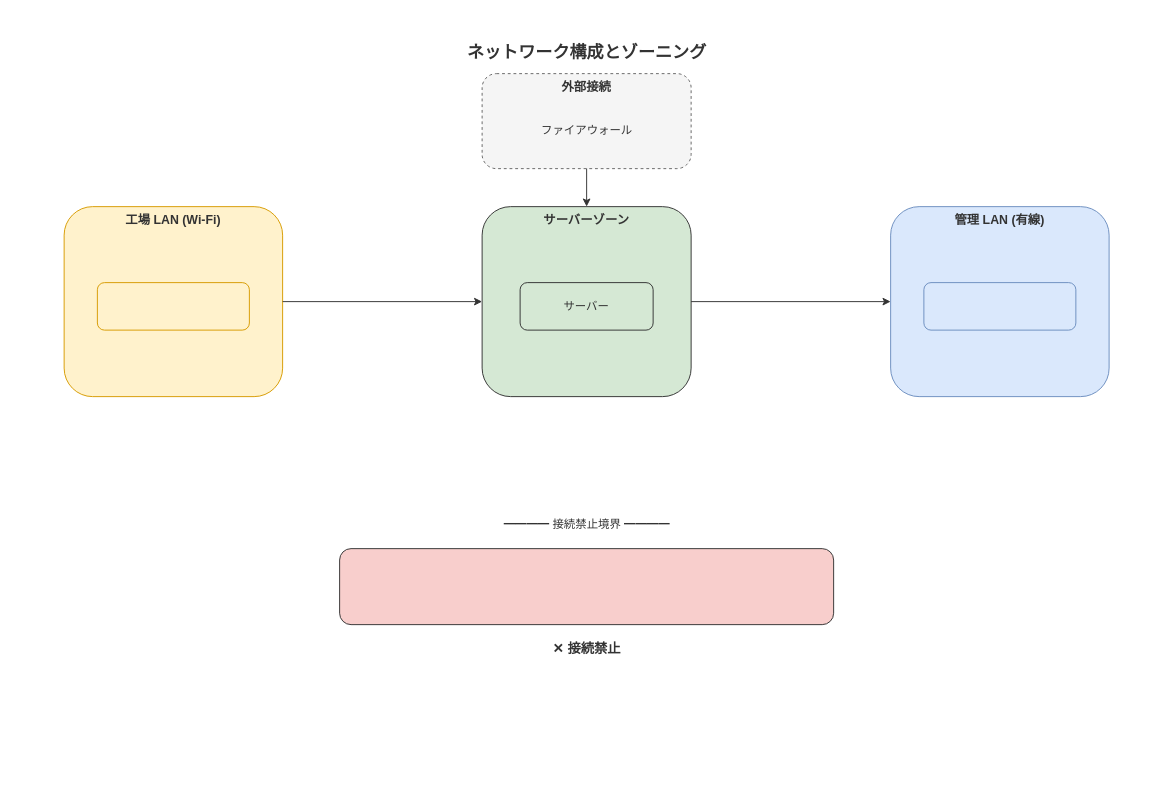
Image size: 1172x792. Some labels were removed from this diagram. The shapes that lost their labels are listed below. From the top down, each one's centre as x and y in pixels, then its label:
point 172,306: ハンディ端末群
point 999,306: 管理 PC 群
point 586,586: OT ゾーン (永続禁止)
